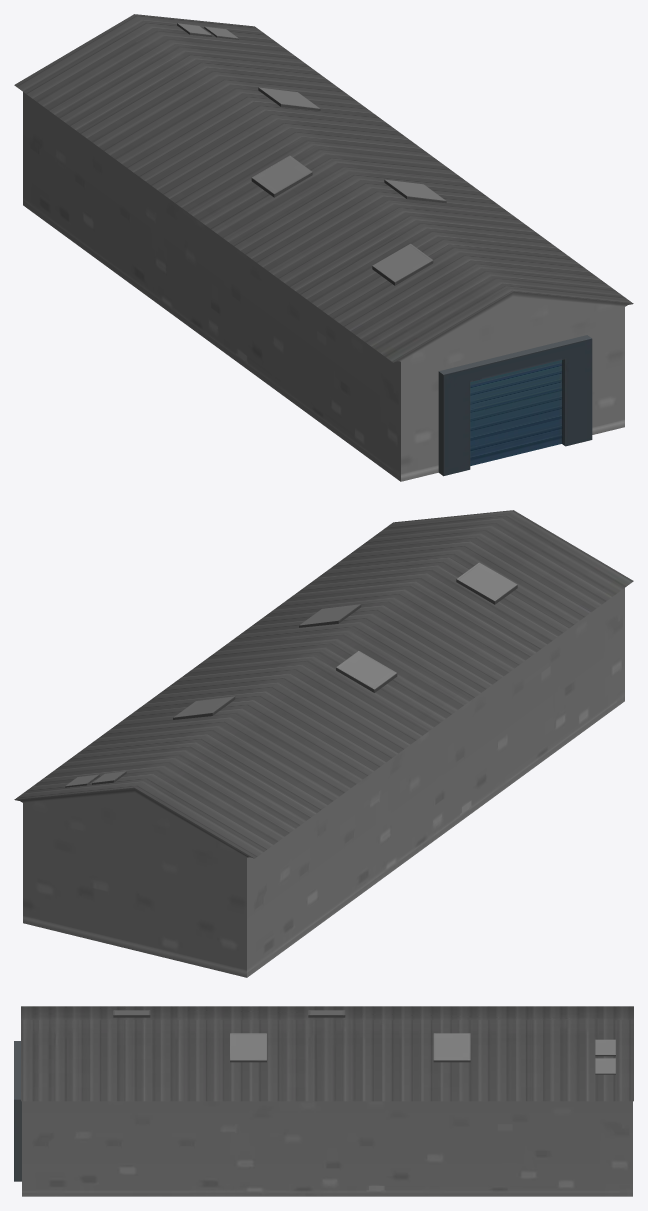
File: industrial_wearhouse_02.glb
3 views of the same model, one above another, from view 1: azimuth 30°, elevation 25°; view 2: azimuth 150°, elevation 25°; view 3: azimuth 270°, elevation 25° (orthographic). The views are drawn at different scales.
Parts seen in each view (by area): view 1: ind:wearhouse_01; view 2: ind:wearhouse_01; view 3: ind:wearhouse_01.
Part boxes in pixels (x1,y1,x2,y2): ind:wearhouse_01: (14,14,633,481); ind:wearhouse_01: (14,510,633,977); ind:wearhouse_01: (14,1006,633,1196).
Size of the model in its own units: 8.71 by 5.64 by 24.02.
Materials: 1 (1 with a texture image).
